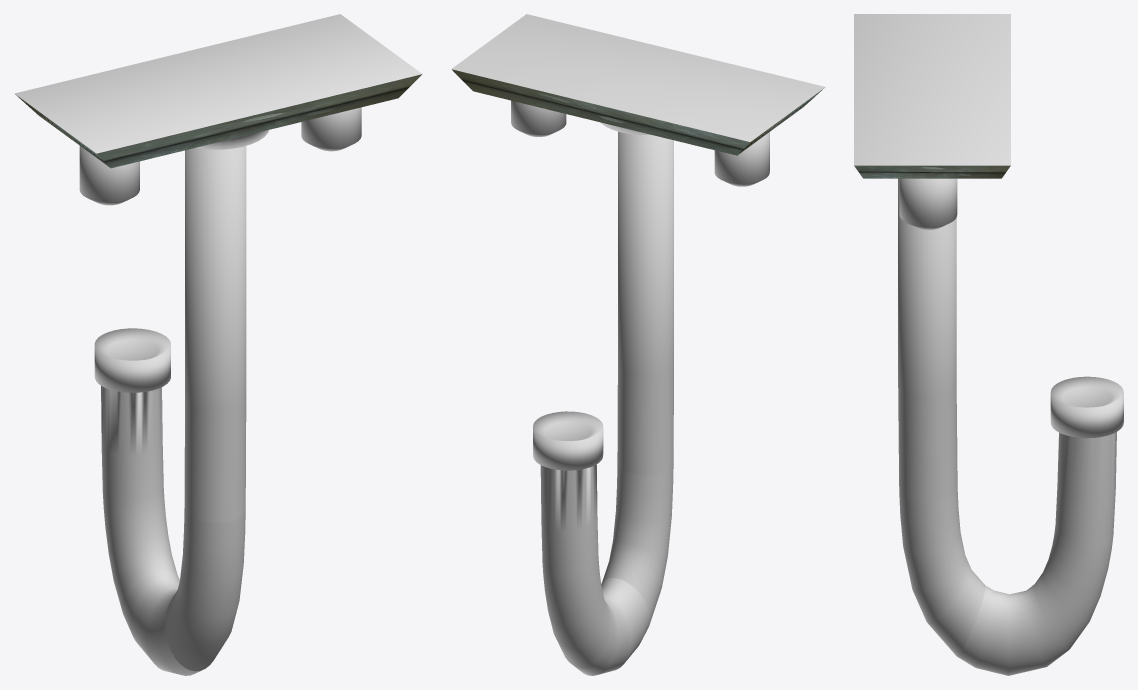
The model's file is faucet.fbx.
3 renders of one model, left to right at view 1: azimuth 30°, elevation 25°; view 2: azimuth 150°, elevation 25°; view 3: azimuth 270°, elevation 25°, orthographic. The views are drawn at different scales.
Parts seen in each view (by area): view 1: Cylinder, Cube, Cylinder_001, Cylinder_003, Cylinder_004; view 2: Cylinder, Cube, Cylinder_001, Cylinder_003, Cylinder_004; view 3: Cylinder, Cube, Cylinder_001, Cylinder_004.
Boxes of the visible parts, bbox=[...] form: Cylinder: bbox=[101, 146, 246, 675]; Cube: bbox=[14, 14, 422, 168]; Cylinder_001: bbox=[94, 328, 170, 392]; Cylinder_003: bbox=[79, 146, 139, 205]; Cylinder_004: bbox=[301, 107, 361, 151]; Cylinder: bbox=[540, 131, 673, 675]; Cube: bbox=[451, 14, 825, 155]; Cylinder_001: bbox=[533, 411, 603, 470]; Cylinder_003: bbox=[714, 132, 769, 186]; Cylinder_004: bbox=[511, 100, 566, 136]; Cylinder: bbox=[898, 178, 1116, 675]; Cube: bbox=[854, 14, 1010, 178]; Cylinder_001: bbox=[1050, 376, 1123, 438]; Cylinder_004: bbox=[899, 178, 957, 229].
Size of the model in its own units: 4.97 by 8.96 by 3.73.
